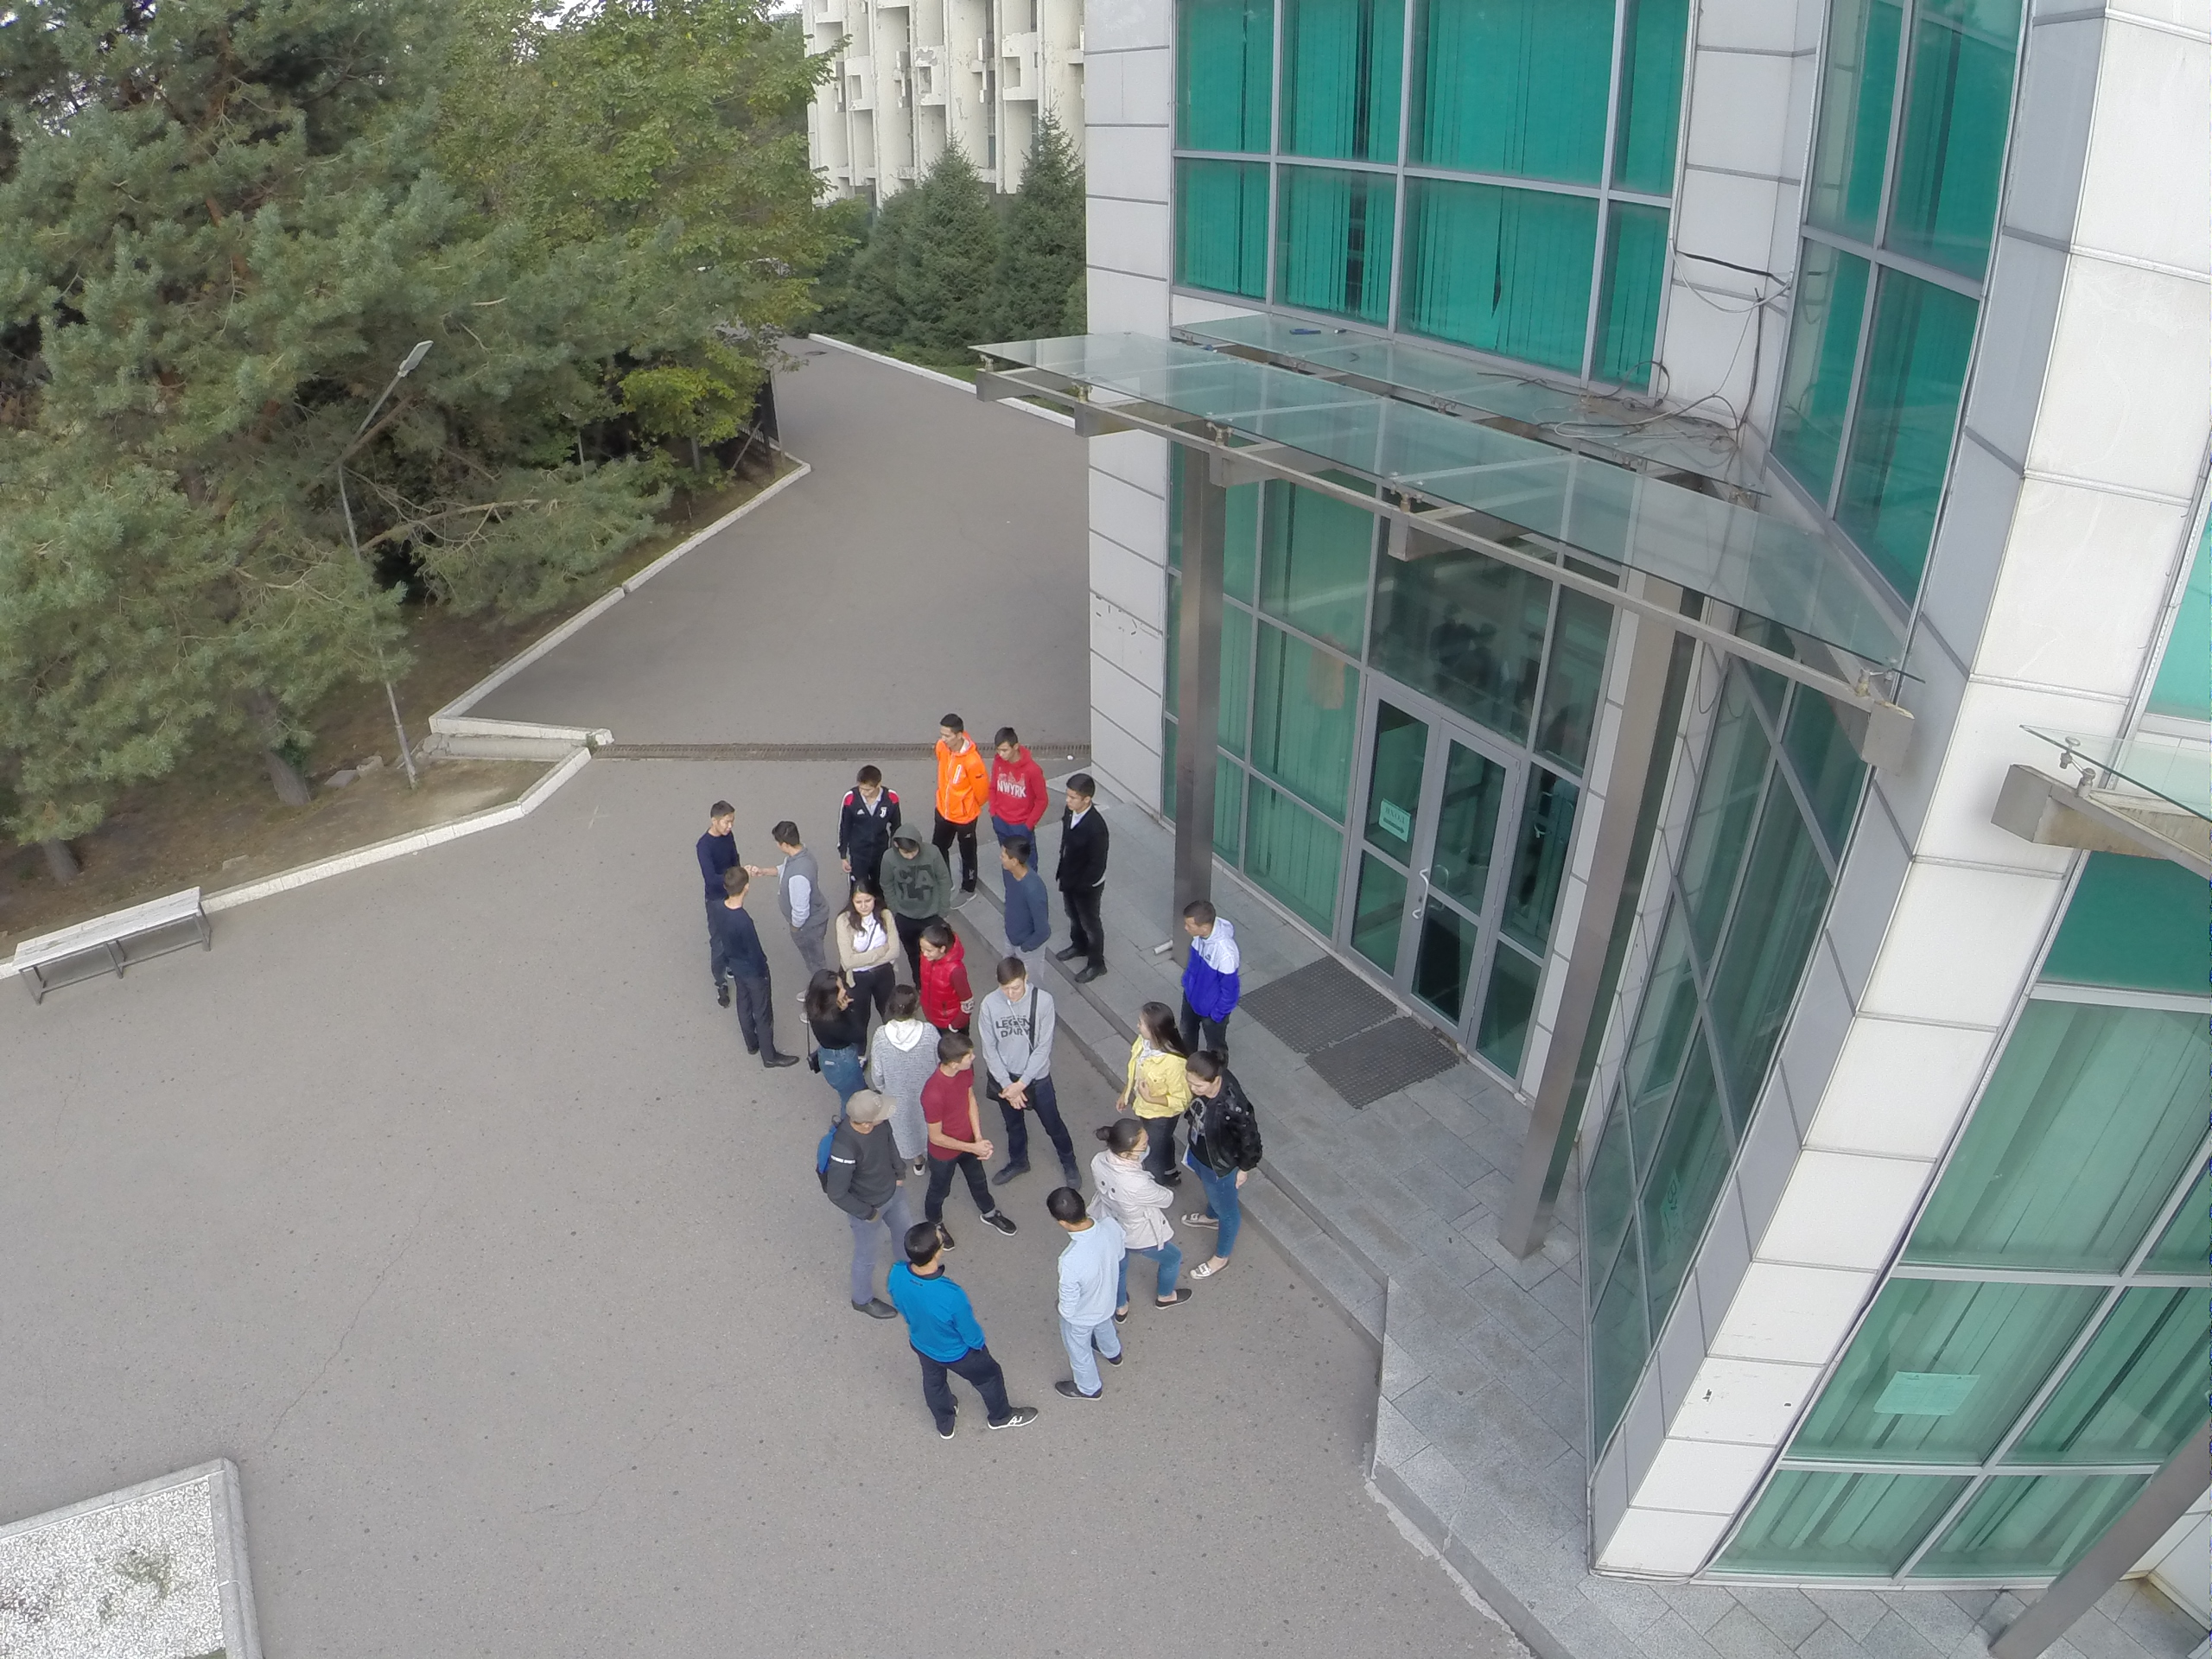person: (891, 1221, 1039, 1446), (817, 1084, 926, 1319), (972, 955, 1078, 1182), (1077, 1110, 1188, 1313), (1168, 1051, 1260, 1285), (1035, 1182, 1126, 1408), (992, 961, 1080, 1192), (925, 1039, 1018, 1243), (710, 870, 799, 1072), (922, 708, 983, 909), (1125, 1004, 1190, 1185), (1053, 772, 1109, 988), (1176, 894, 1238, 1048), (802, 969, 874, 1093), (767, 813, 823, 961), (987, 840, 1048, 964), (982, 726, 1048, 835), (836, 767, 893, 887), (921, 920, 982, 1032), (840, 882, 895, 997), (880, 823, 948, 918), (691, 797, 741, 873)
